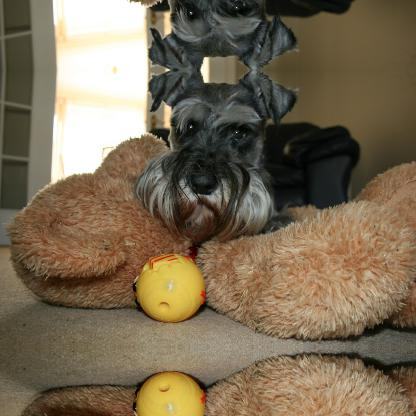Dog: (134, 68, 300, 245), (134, 0, 301, 70)
